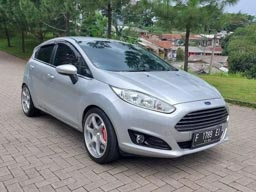plat: (194, 127, 221, 139)
